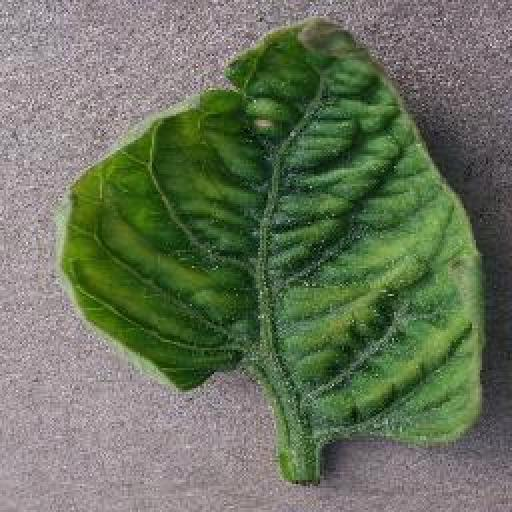disease_tomato: (58, 18, 486, 446)
